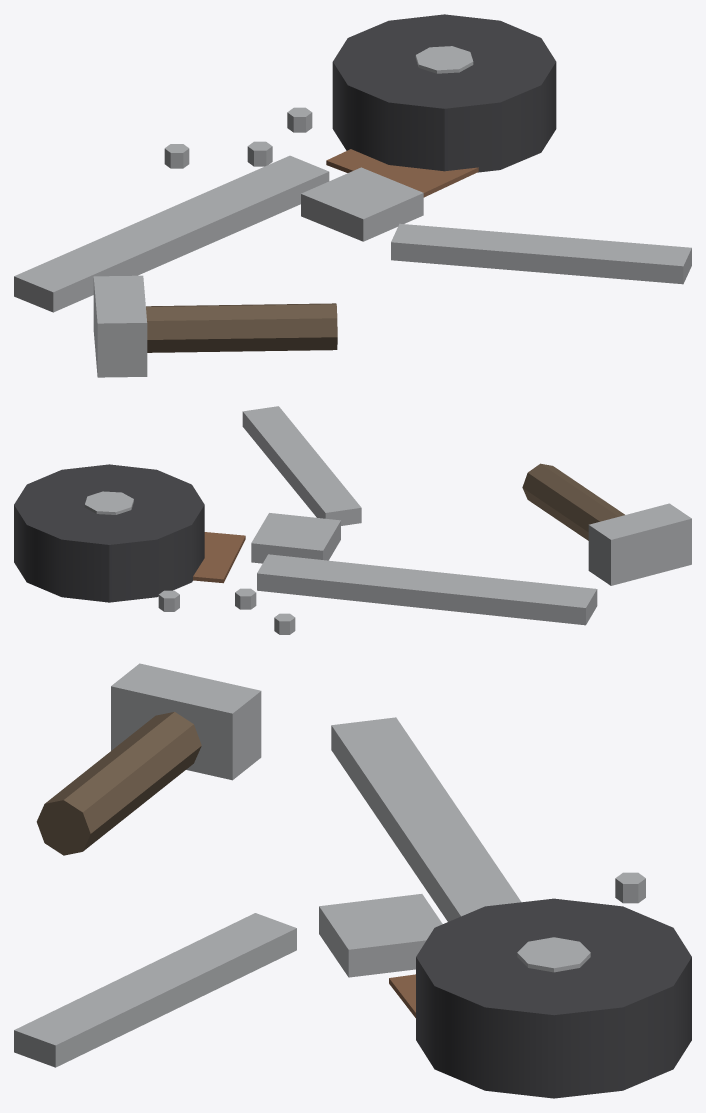
The model's file is Dress_ToolScatter.fbx.
The picture shows the model from 3 angles, top to bottom: view 1: azimuth 30°, elevation 25°; view 2: azimuth 150°, elevation 25°; view 3: azimuth 270°, elevation 25°; orthographic projection. The views are drawn at different scales.
Parts seen in each view (by area): view 1: Dress_ToolScatter; view 2: Dress_ToolScatter; view 3: Dress_ToolScatter.
Part boxes in pixels (box(x1,y1,x2,y2)): Dress_ToolScatter: box(14, 14, 691, 377); Dress_ToolScatter: box(14, 406, 691, 634); Dress_ToolScatter: box(14, 663, 691, 1098).
Bounding box in the file's own units: 56.88 × 6.6 × 44.23.
